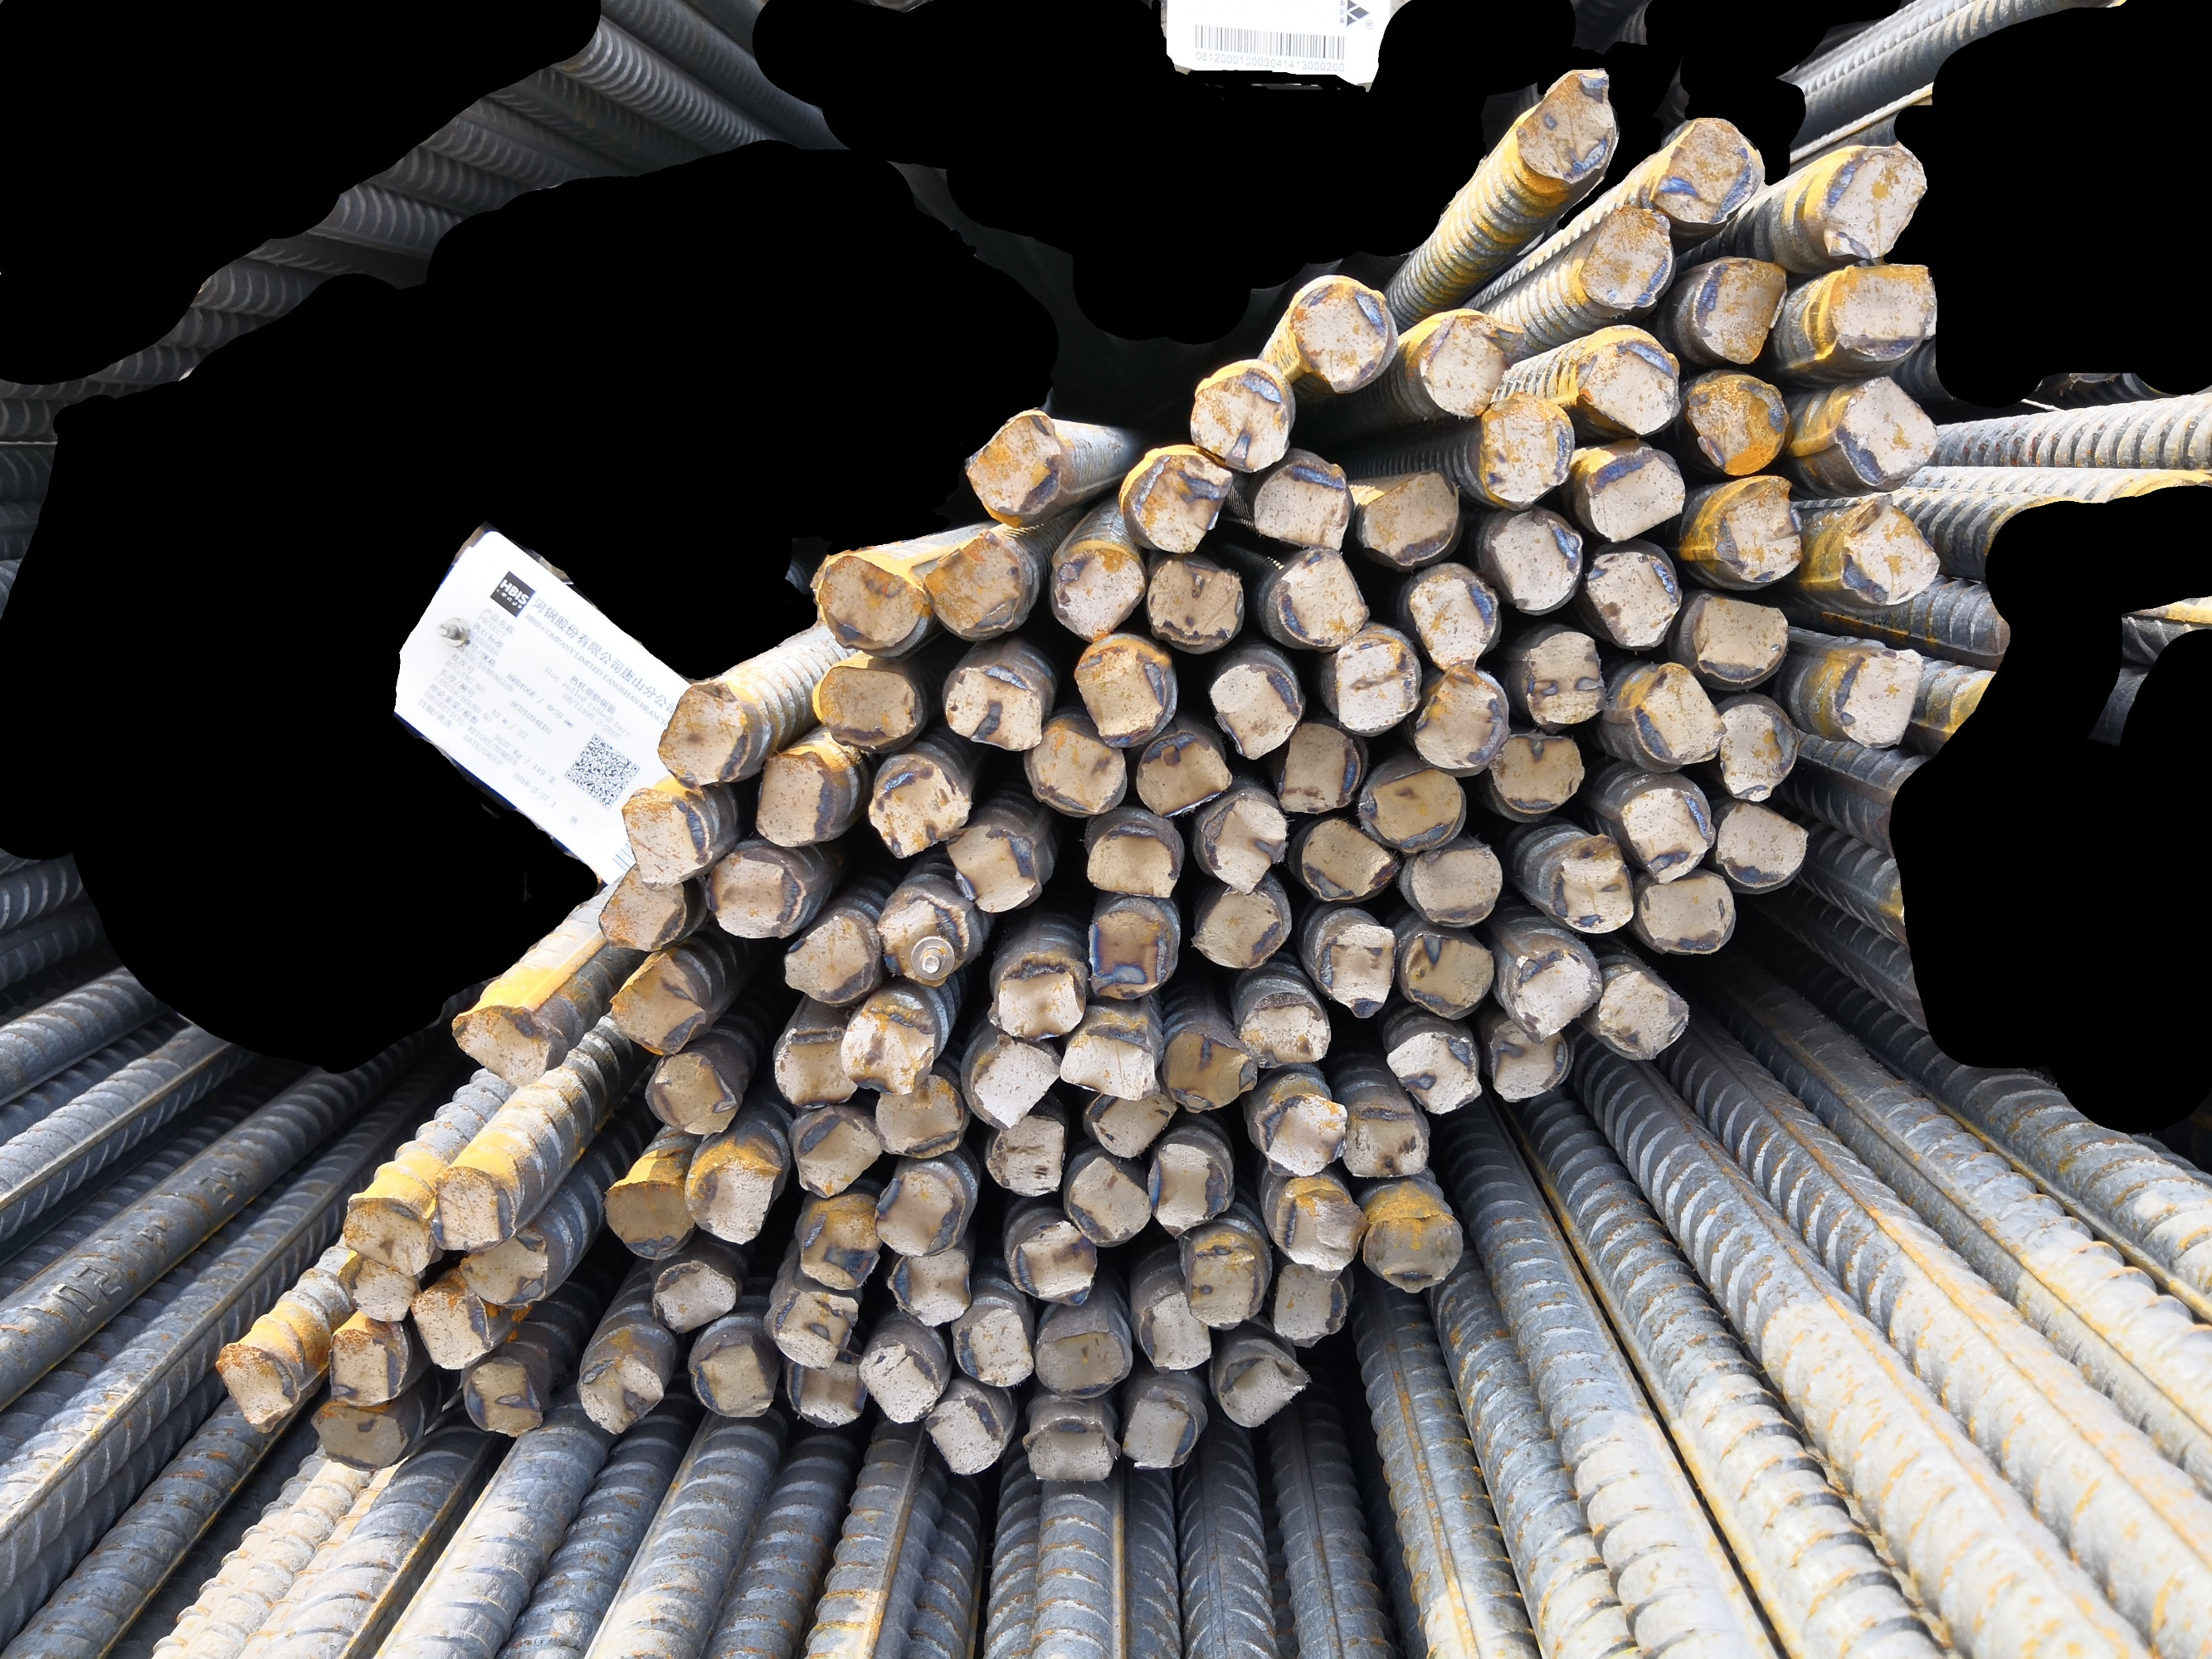rebar: (1815, 134, 1931, 261), (1827, 368, 1944, 493), (1642, 108, 1762, 228), (1283, 275, 1401, 397), (1511, 61, 1621, 188), (1829, 486, 1944, 606), (1065, 638, 1180, 749), (1121, 446, 1238, 556), (1682, 249, 1792, 366), (1822, 258, 1942, 364), (1475, 385, 1576, 511), (1700, 471, 1806, 589), (1185, 361, 1295, 474), (1680, 368, 1794, 477), (1415, 310, 1527, 420), (1618, 662, 1731, 770), (1609, 779, 1722, 887), (654, 673, 757, 791), (1677, 586, 1795, 688), (863, 755, 974, 863), (919, 535, 1032, 641), (1578, 545, 1686, 655), (1572, 444, 1691, 544), (812, 552, 933, 650), (605, 950, 711, 1058), (1140, 549, 1250, 653), (1572, 335, 1682, 439), (964, 408, 1065, 521), (1487, 505, 1586, 619), (1018, 723, 1133, 821), (1400, 568, 1503, 676), (938, 814, 1044, 917), (1412, 667, 1515, 774), (1576, 200, 1673, 310), (812, 657, 924, 753), (1830, 638, 1926, 749), (1046, 540, 1149, 643), (1504, 943, 1605, 1047), (1267, 547, 1372, 648), (1708, 791, 1813, 892), (1250, 451, 1356, 551), (1517, 620, 1607, 735), (1081, 903, 1184, 1004), (941, 660, 1048, 758), (701, 847, 809, 943), (614, 788, 716, 887), (1271, 1176, 1374, 1276), (1361, 471, 1466, 568), (838, 1004, 947, 1098), (1708, 699, 1802, 807), (593, 856, 694, 955), (866, 1162, 967, 1262), (1138, 1136, 1232, 1243), (1198, 791, 1290, 899), (443, 1002, 560, 1087), (1269, 720, 1367, 821), (1328, 631, 1426, 732), (872, 894, 974, 990), (1208, 659, 1304, 762), (682, 1154, 786, 1248), (777, 911, 882, 1006), (1156, 1023, 1260, 1117), (1056, 1014, 1168, 1101), (1400, 924, 1497, 1023), (1593, 967, 1693, 1065), (744, 746, 838, 849), (1544, 835, 1639, 938), (1133, 730, 1238, 823), (1313, 913, 1400, 1021), (966, 1035, 1065, 1129), (1189, 882, 1288, 976), (1002, 1216, 1103, 1309), (1485, 725, 1588, 816), (1365, 762, 1469, 850), (300, 1394, 413, 1476), (636, 1049, 743, 1136), (1062, 1148, 1154, 1248), (1299, 814, 1398, 906), (213, 1337, 303, 1438), (865, 1070, 966, 1161), (1361, 1206, 1466, 1293), (424, 1162, 519, 1256), (1253, 1089, 1351, 1182), (1403, 840, 1506, 927), (1382, 1030, 1487, 1115), (1077, 817, 1184, 901), (788, 1110, 884, 1202), (767, 1283, 863, 1375), (335, 1188, 432, 1277), (797, 1194, 885, 1291), (594, 1176, 699, 1258), (985, 962, 1089, 1044), (401, 1283, 495, 1373), (450, 1227, 553, 1309), (1211, 1351, 1314, 1432), (1028, 1319, 1130, 1401), (1236, 986, 1337, 1068), (781, 1344, 873, 1432), (884, 1243, 978, 1330), (1339, 1098, 1433, 1185), (1639, 873, 1740, 953), (689, 1333, 777, 1424), (321, 1323, 413, 1410), (772, 1023, 865, 1110), (1175, 1246, 1267, 1333), (453, 1354, 549, 1438), (1271, 1255, 1353, 1352), (981, 1112, 1072, 1199), (1086, 1080, 1182, 1162), (641, 1256, 741, 1335), (577, 1351, 668, 1436), (952, 1304, 1037, 1394), (851, 1344, 945, 1425), (919, 1392, 1008, 1478), (1133, 1286, 1218, 1375), (1020, 1412, 1119, 1486), (1487, 1019, 1572, 1107), (331, 1246, 420, 1328), (1121, 1389, 1206, 1473)
